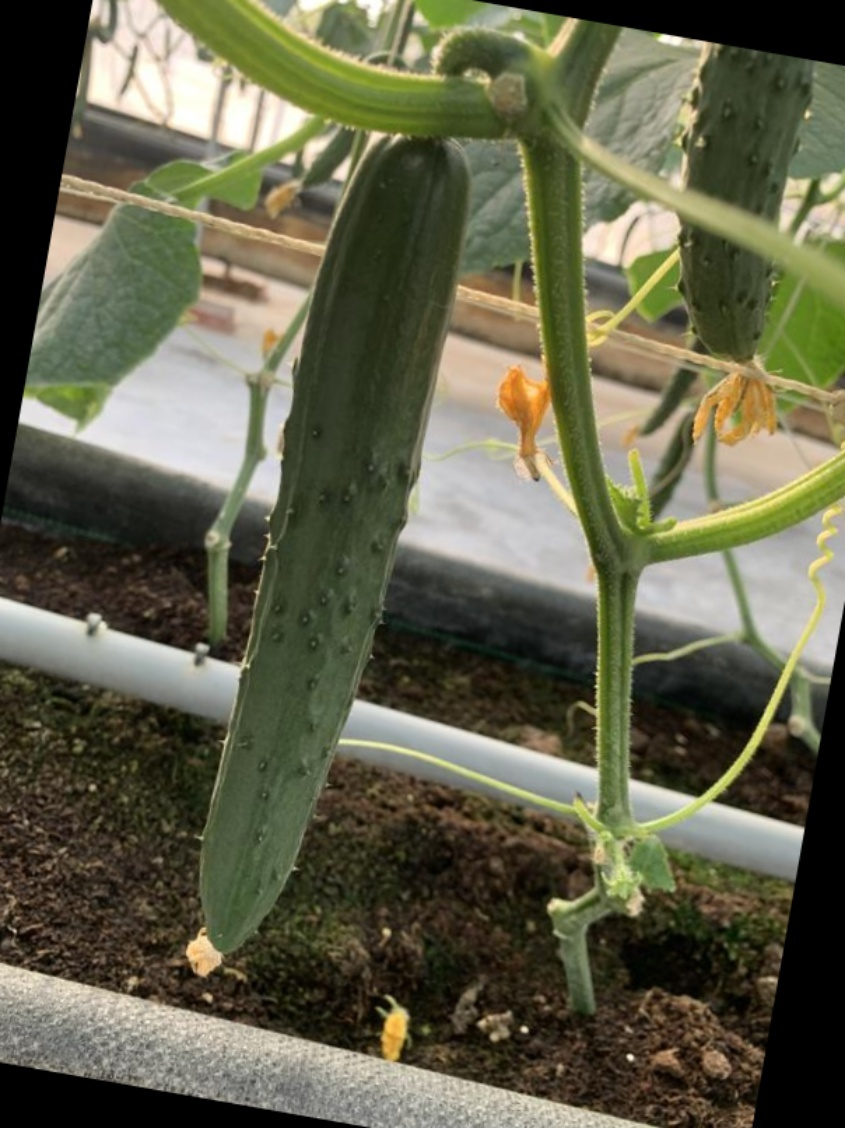mature: (146, 127, 510, 951)
